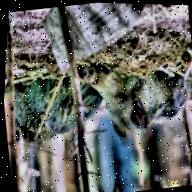boar: (80, 33, 192, 142)
